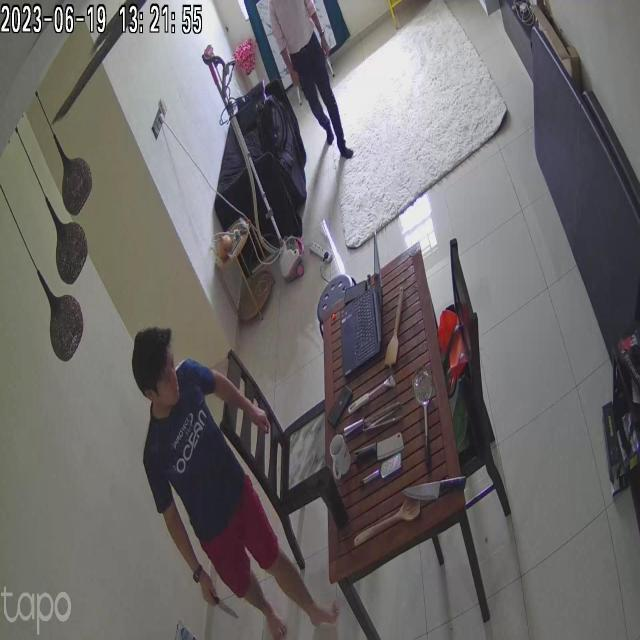Knife: (403, 471, 478, 507), (201, 578, 254, 625)
